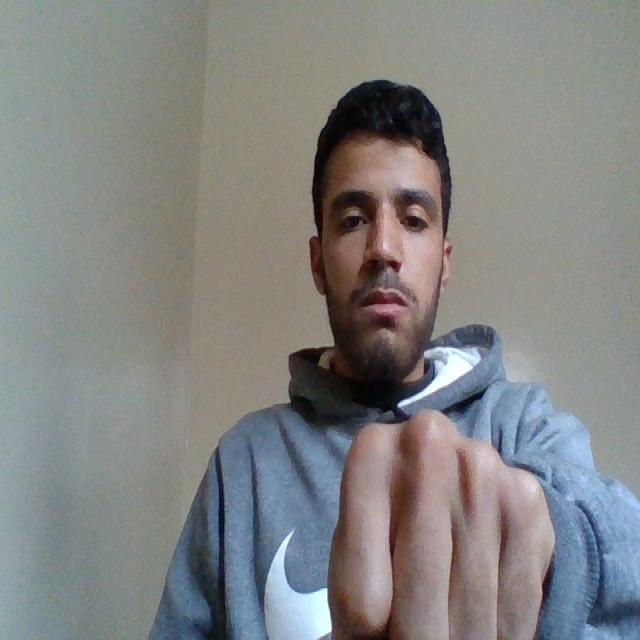No: (320, 410, 560, 638)
